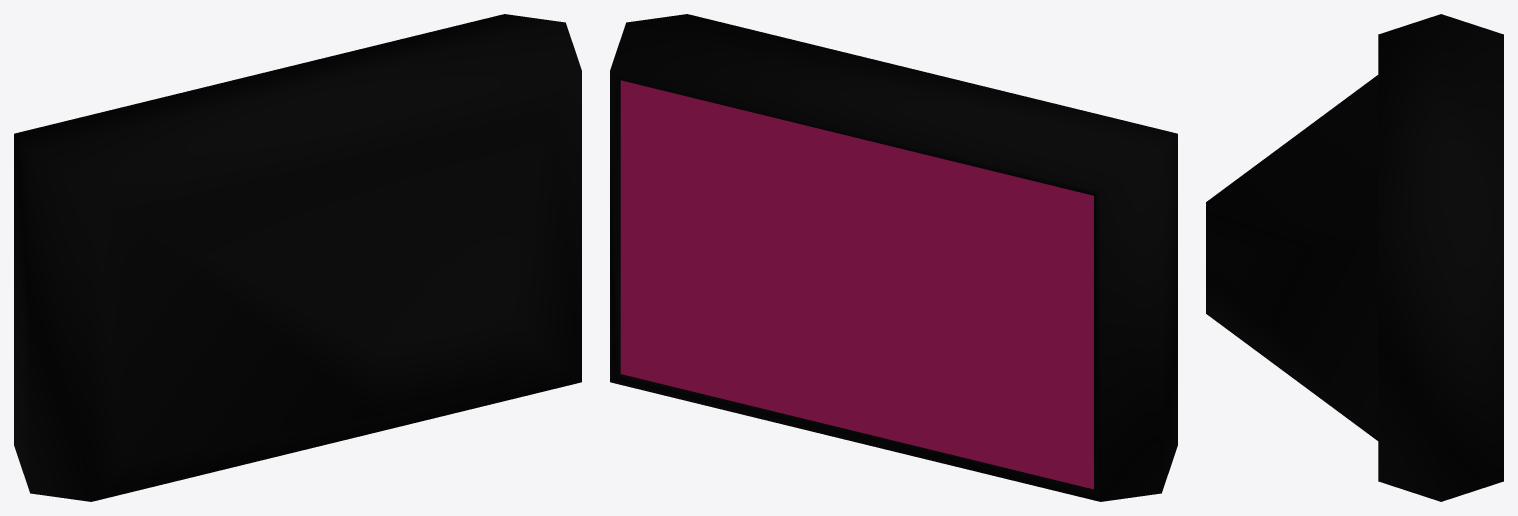
The picture shows the model from 3 angles, left to right: view 1: azimuth 30°, elevation 25°; view 2: azimuth 150°, elevation 25°; view 3: azimuth 270°, elevation 25°; orthographic projection. The views are drawn at different scales.
Visible parts, largest first — view 1: TV; view 2: Screen, TV; view 3: TV.
Boxes of the visible parts, bbox=[...] form: TV: bbox=[14, 14, 581, 501]; Screen: bbox=[620, 80, 1093, 489]; TV: bbox=[610, 14, 1177, 501]; TV: bbox=[1206, 14, 1503, 501].
Size of the model in its own units: 3.6 by 2.18 by 2.14.
